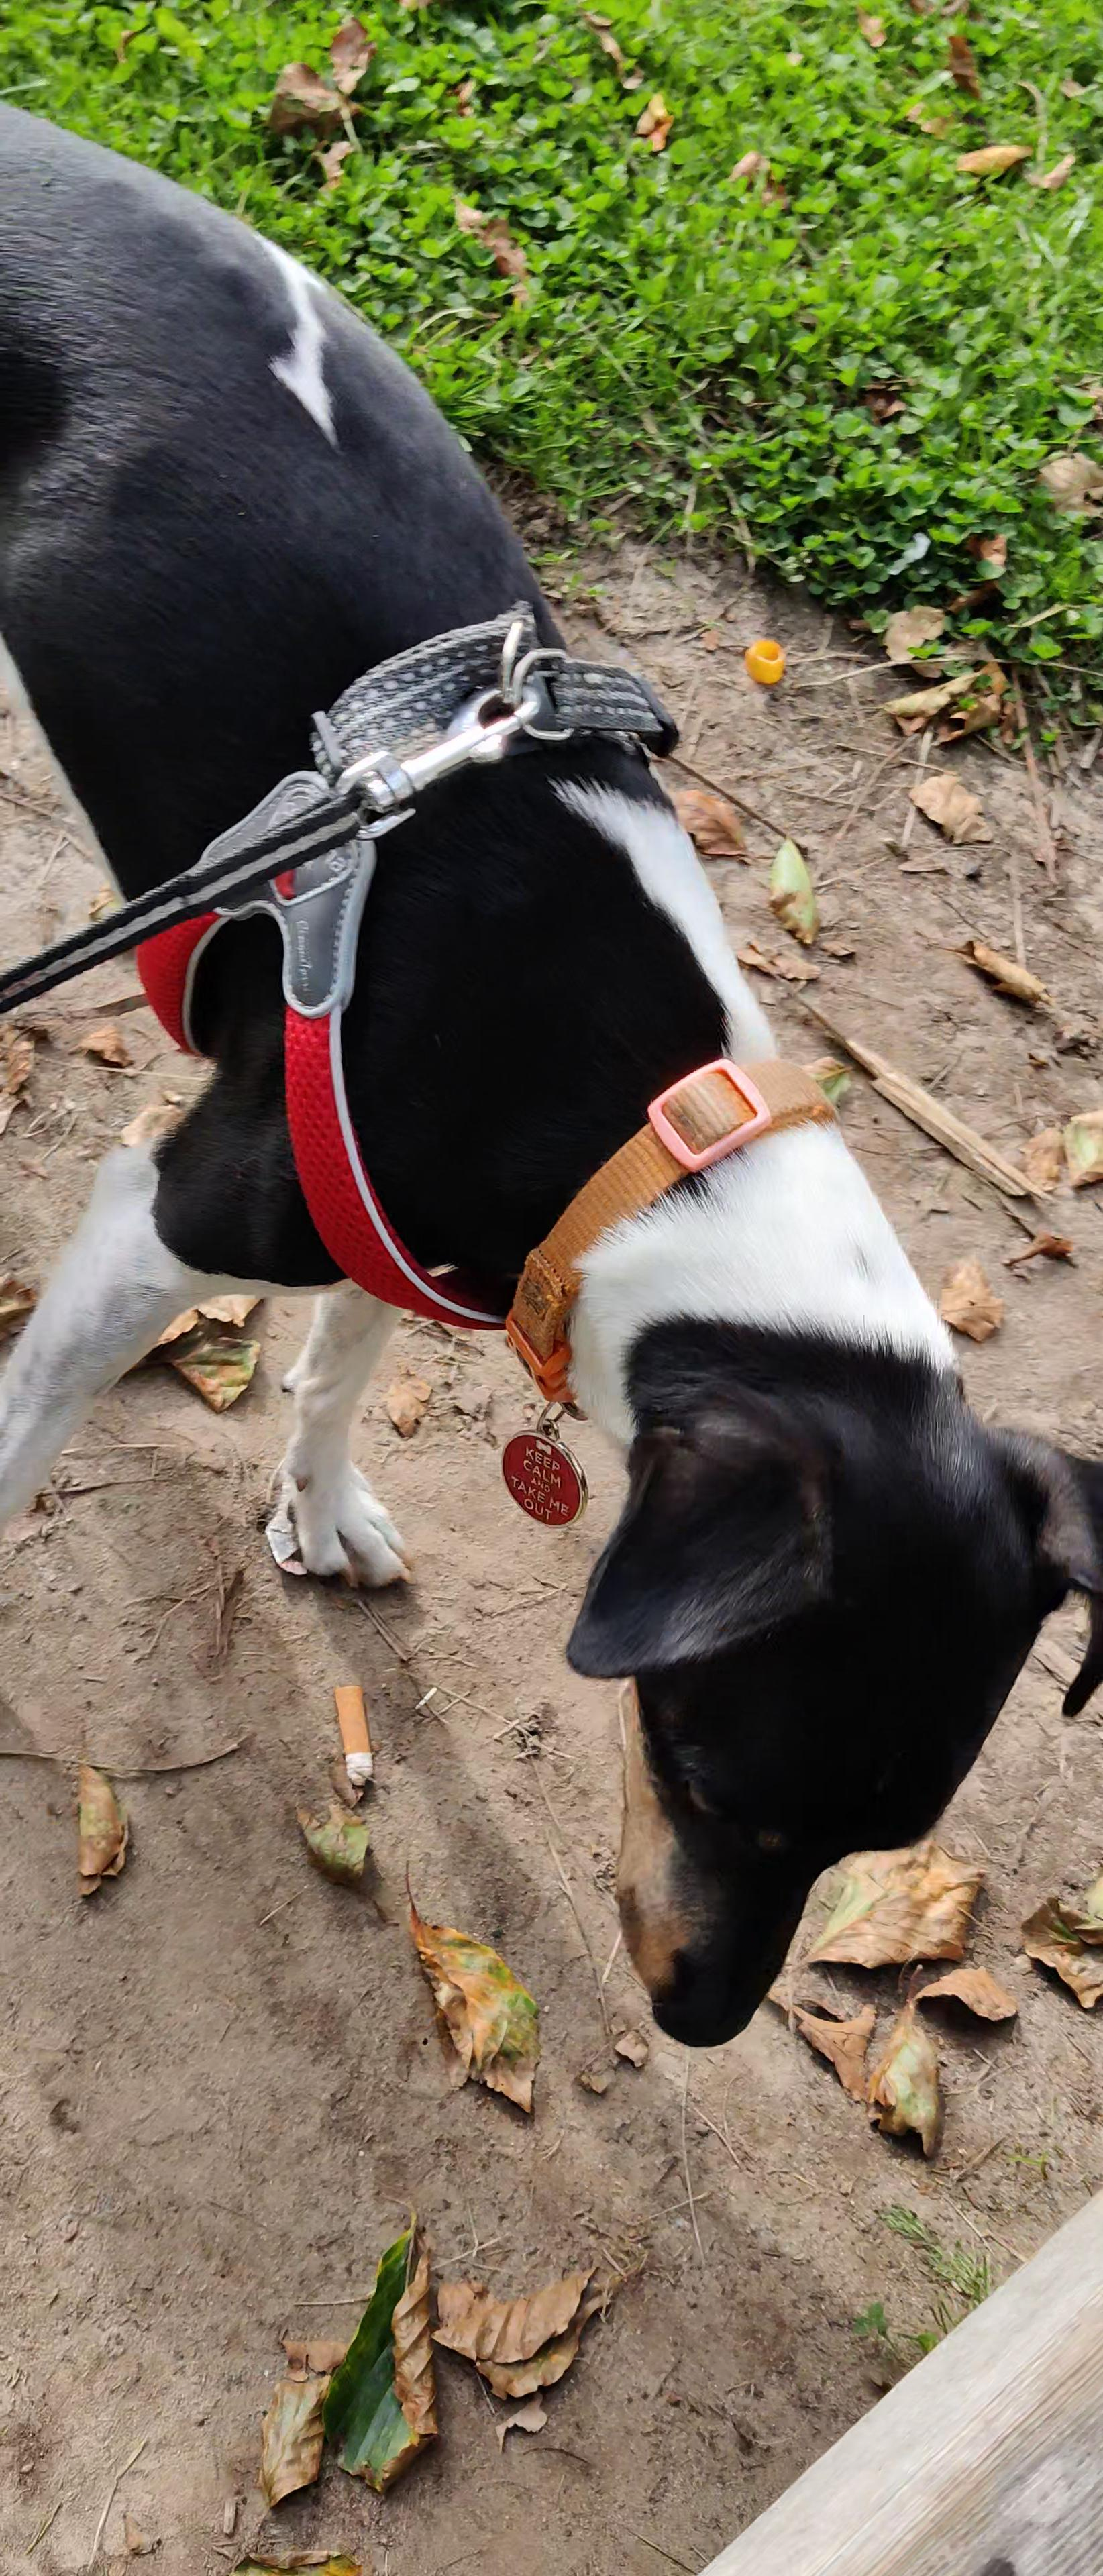Dog: (0, 71, 1103, 2057)
